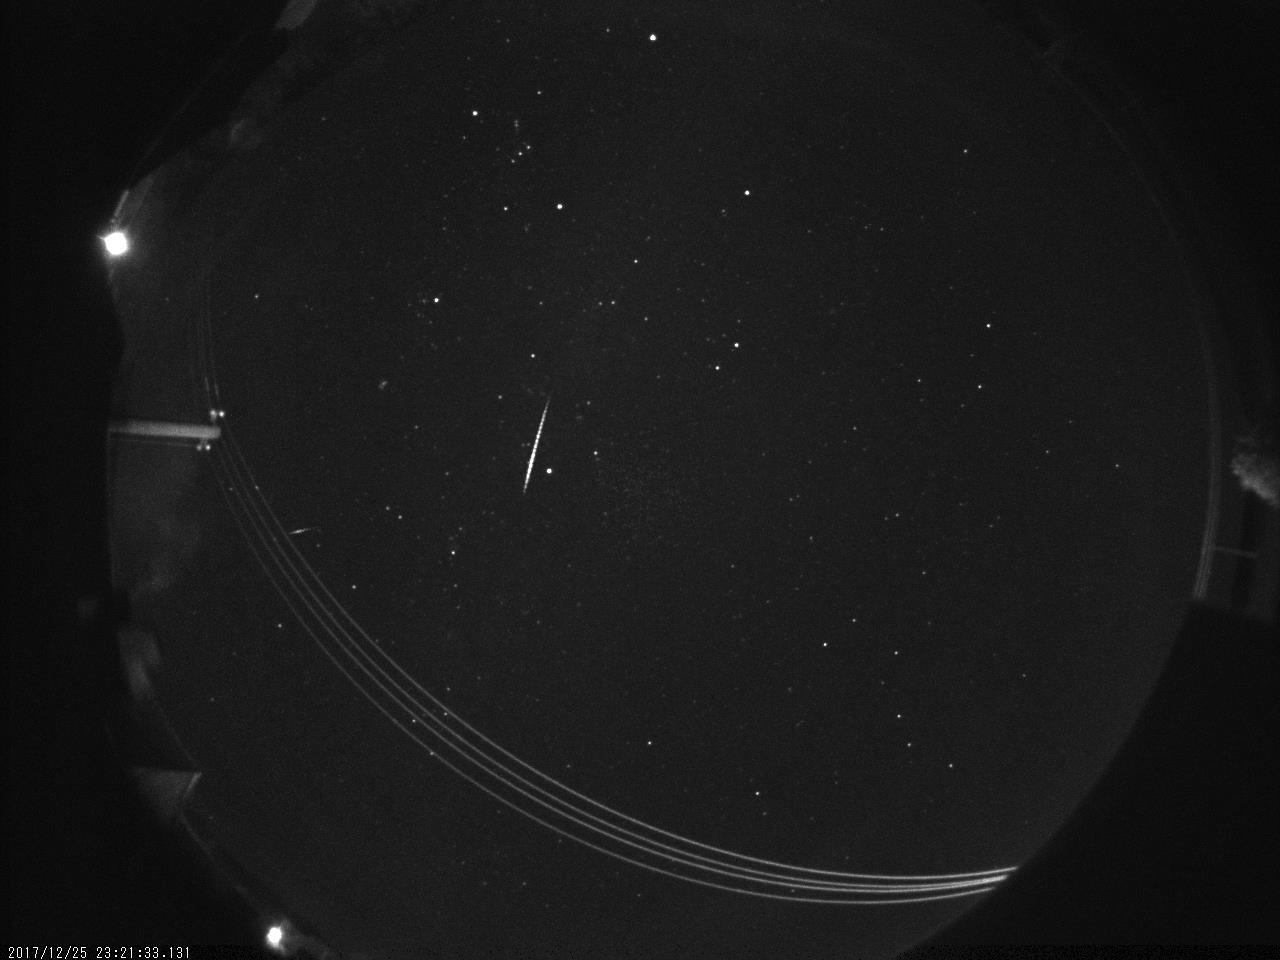Meteor: (519, 390, 553, 495), (283, 521, 321, 545)
